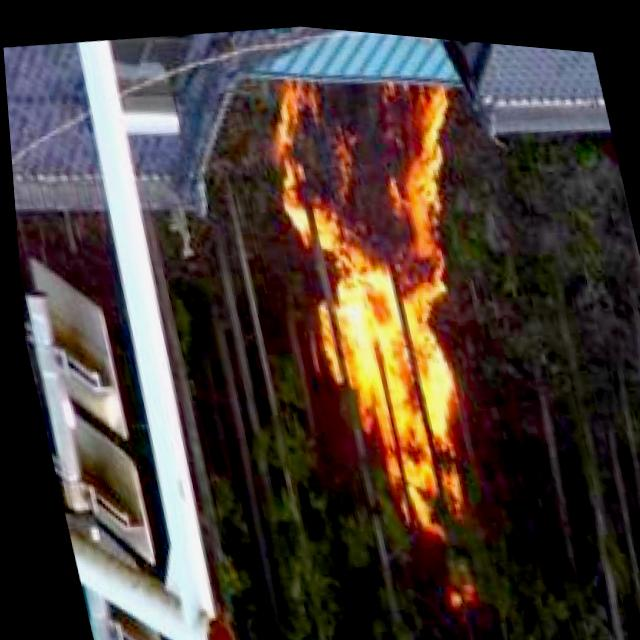helmet: (248, 44, 542, 543)
